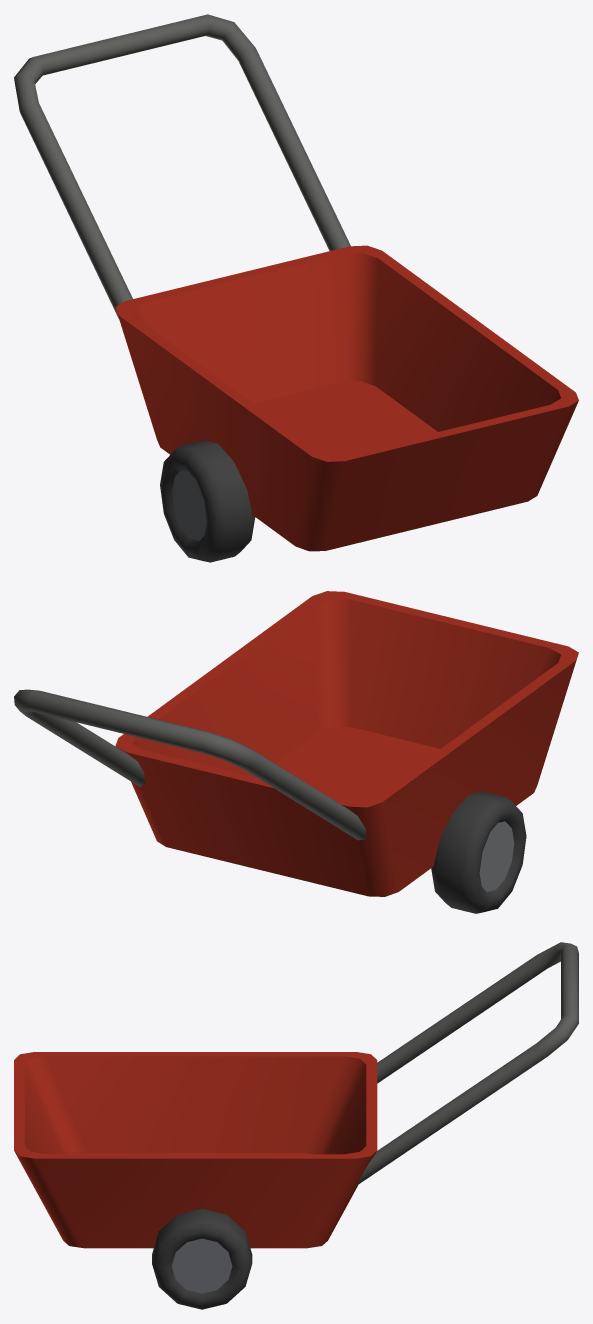
File: GardenCart_2.fbx
The picture shows the model from 3 angles, top to bottom: view 1: azimuth 30°, elevation 25°; view 2: azimuth 150°, elevation 25°; view 3: azimuth 270°, elevation 25°; orthographic projection. The views are drawn at different scales.
Parts seen in each view (by area): view 1: GardenCart_2; view 2: GardenCart_2; view 3: GardenCart_2.
Boxes of the visible parts, bbox=[...] form: GardenCart_2: bbox=[14, 14, 578, 562]; GardenCart_2: bbox=[14, 591, 578, 913]; GardenCart_2: bbox=[14, 942, 578, 1309].
Bounding box in the file's own units: 101 × 97.93 × 186.
